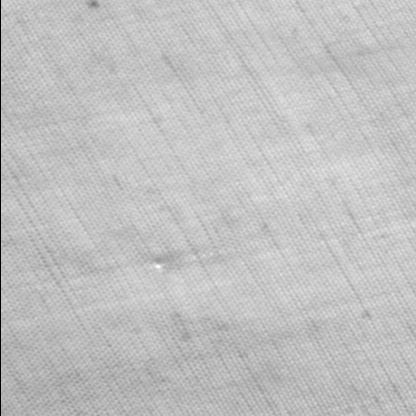hole: (148, 256, 176, 274)
